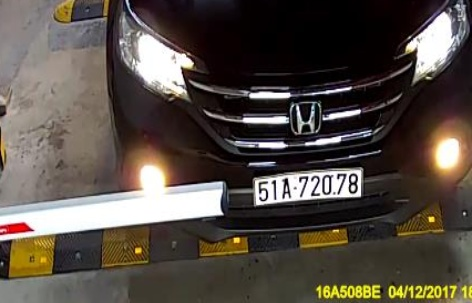plate: (253, 160, 364, 215)
